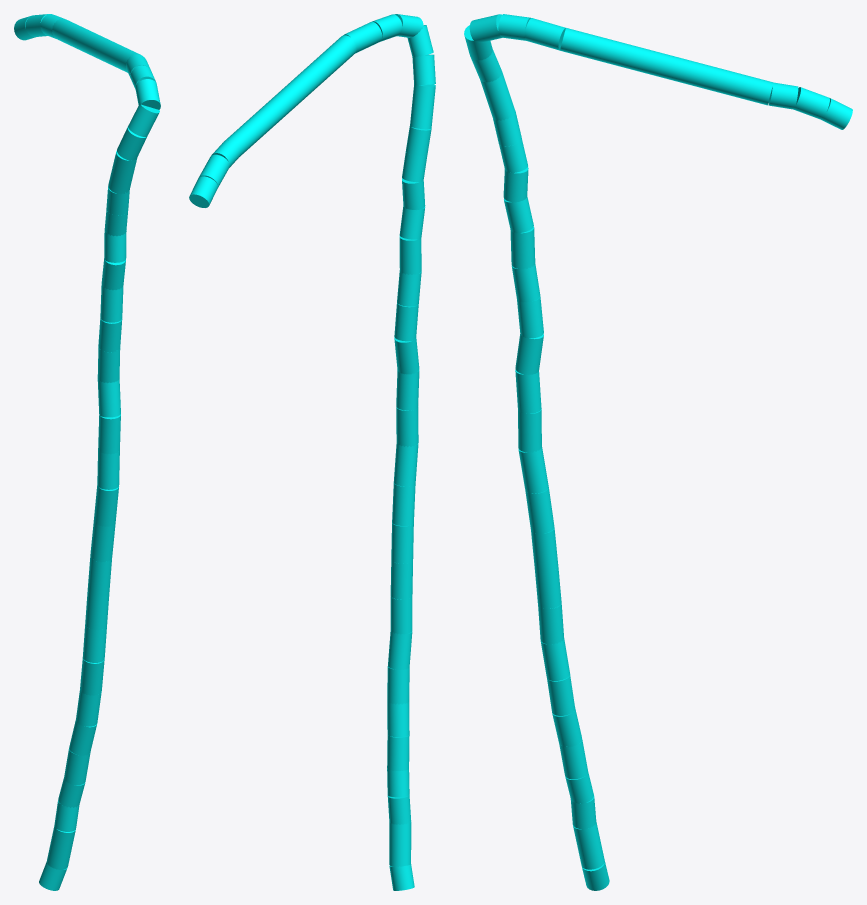
3 renders of one model, left to right at view 1: azimuth 30°, elevation 25°; view 2: azimuth 150°, elevation 25°; view 3: azimuth 270°, elevation 25°, orthographic. The views are drawn at different scales.
Parts seen in each view (by area): view 1: Cylinder(Clone) (×30); view 2: Cylinder(Clone) (×31); view 3: Cylinder(Clone) (×21).
Part boxes in pixels (bbox=[...]): Cylinder(Clone) (×30): bbox=[25, 14, 160, 890]; Cylinder(Clone) (×31): bbox=[189, 14, 435, 890]; Cylinder(Clone) (×21): bbox=[480, 18, 829, 869].
Size of the model in its own units: 0.0584 by 0.4174 by 0.1635.
